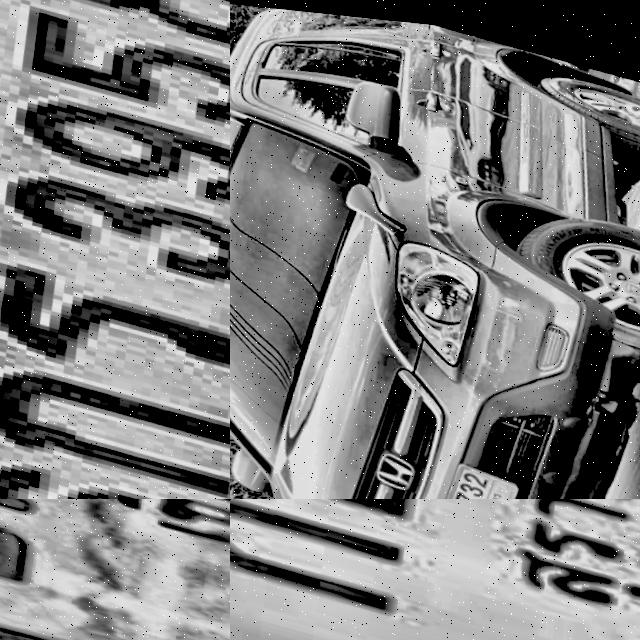license-plate: (0, 0, 230, 499), (230, 499, 640, 640), (0, 499, 230, 640), (416, 450, 519, 499)
